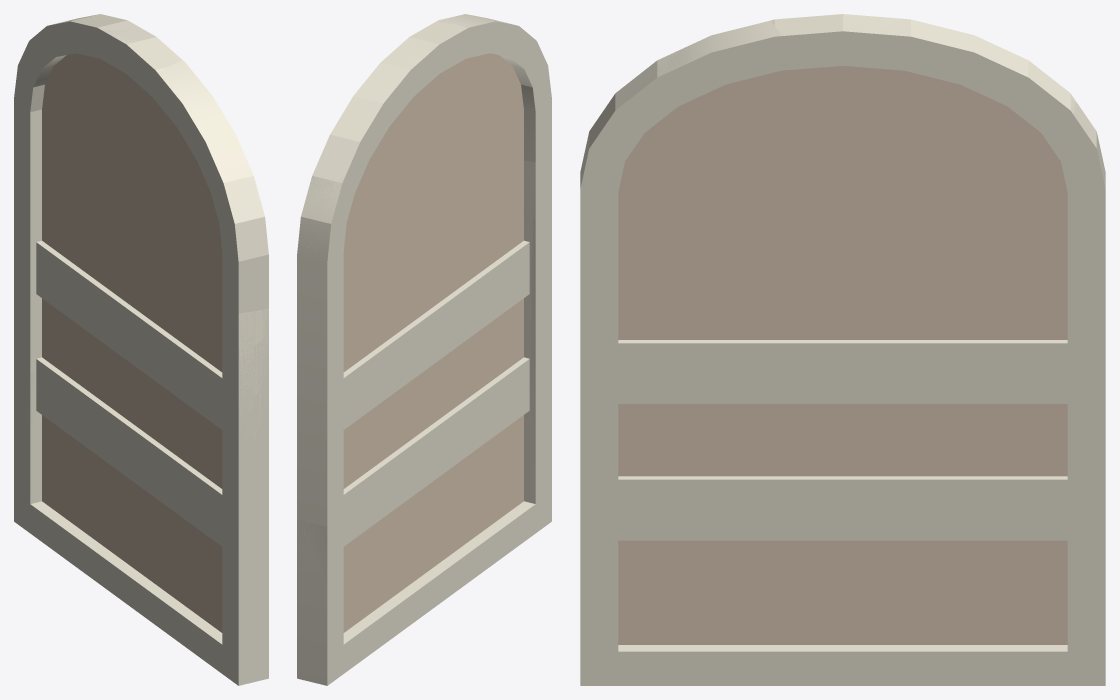
File: gate.fbx
3 views of the same model, side by side, from view 1: azimuth 30°, elevation 25°; view 2: azimuth 150°, elevation 25°; view 3: azimuth 270°, elevation 25° (orthographic). The views are drawn at different scales.
Visible parts, largest first — view 1: gate, gate_cell.007, gate_cell.004, gate_cell.005, gate_cell.006, gate_cell.003, gate_cell, gate_cell.002, gate_cell.001; view 2: gate, gate_cell.005, gate_cell.004, gate_cell.007, gate_cell.003, gate_cell.001, gate_cell.006; view 3: gate, gate_cell.005, gate_cell.007, gate_cell, gate_cell.004, gate_cell.006, gate_cell.003, gate_cell.001, gate_cell.002.
Part boxes in pixels (x1,y1,x2,y2): gate: (14,22,268,685); gate_cell.007: (14,14,147,361); gate_cell.004: (15,248,259,525); gate_cell.005: (14,363,268,685); gate_cell.006: (158,150,268,313); gate_cell.003: (142,87,208,247); gate_cell: (260,309,268,520); gate_cell.002: (157,75,242,158); gate_cell.001: (106,29,181,127); gate: (297,14,551,685); gate_cell.005: (297,370,551,654); gate_cell.004: (329,150,551,524); gate_cell.007: (299,48,433,518); gate_cell.003: (433,37,514,215); gate_cell.001: (396,22,470,111); gate_cell.006: (475,33,551,161); gate: (580,15,1105,685); gate_cell.005: (580,496,1105,685); gate_cell.007: (819,18,1105,497); gate_cell: (580,253,1096,499); gate_cell.004: (618,248,1067,477); gate_cell.006: (580,73,800,253); gate_cell.003: (649,46,829,250); gate_cell.001: (770,14,897,101); gate_cell.002: (642,36,783,90).
Size of the model in its own units: 51.6 by 910 by 662.
